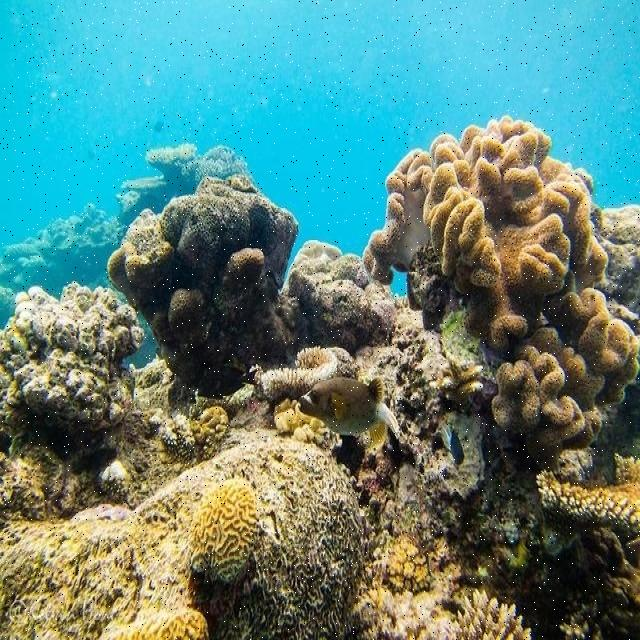fish: (300, 378, 401, 447)
reefs: (0, 283, 364, 639), (362, 115, 639, 483), (106, 171, 395, 398)
